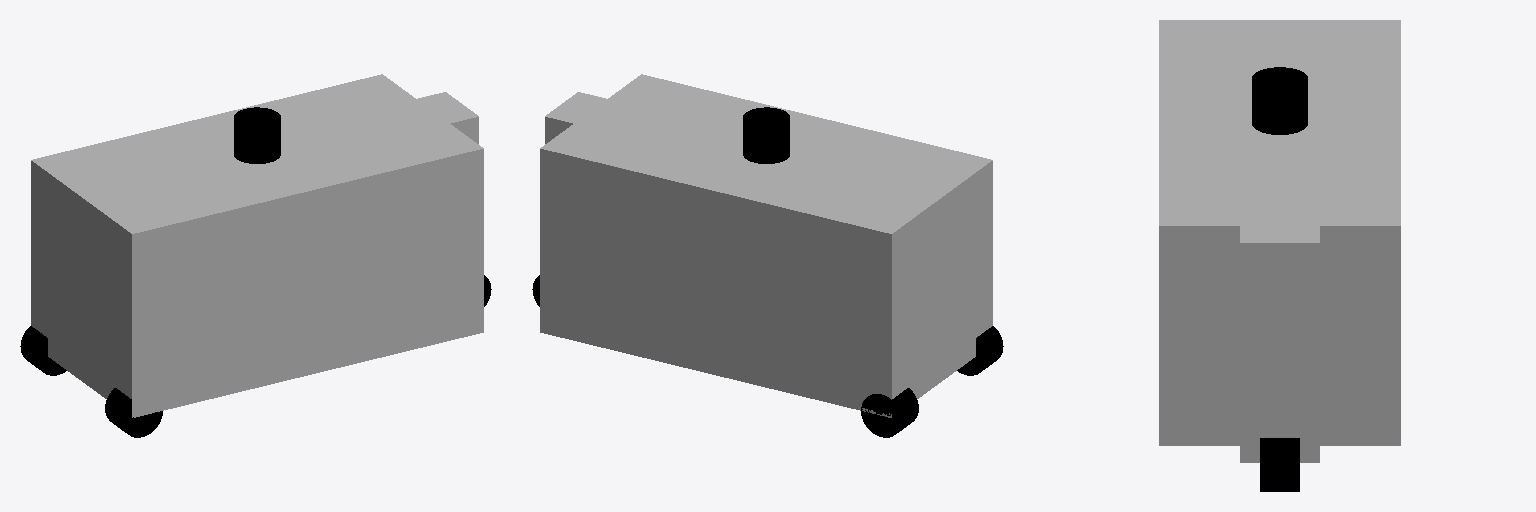
The robot description file, URDF, robot "tortoisebot-t4":
<?xml version="1.0"?>
<robot name="tortoisebot-t4">

<material name="black">
        <color rgba="0 0 0 1"/>
      </material>
  <link name="base_link">
    <visual>
      <geometry>
        <box size="0.6 0.3 0.3"/>
      </geometry>
      <material name="silver">
        <color rgba="0.75 0.75 0.75 1"/>
      </material>
    </visual>
    <collision>
      <geometry>
        <box size="0.6 0.3 0.3"/>
      </geometry>
    </collision>
    <inertial>
      <mass value="1.0"/>
      <inertia ixx="0.015" iyy="0.0375" izz="0.0375" ixy="0" ixz="0" iyz="0"/>
    </inertial>
  </link>

  <link name="front_caster">
    <visual>
      <geometry>
        <box size="0.1 0.1 0.3"/>
      </geometry>
      <material name="silver"/>
    </visual>
    <collision>
      <geometry>
        <box size="0.1 0.1 0.3"/>
      </geometry>
    </collision>
    <inertial>
      <mass value="0.1"/>
      <inertia ixx="0.00083" iyy="0.00083" izz="0.000167" ixy="0" ixz="0" iyz="0"/>
    </inertial>
  </link>

  <joint name="front_caster_joint" type="continuous">
    <axis xyz="0 0 1"/>
    <parent link="base_link"/>
    <child link="front_caster"/>
    <origin rpy="0 0 0" xyz="0.3 0 0"/>
  </joint>

  

  <link name="front_wheel">
    <visual>
      <geometry>
        <cylinder length="0.05" radius="0.035"/>
      </geometry>
      <material name="black"/>
    </visual>
    <collision>
      <geometry>
        <cylinder length="0.05" radius="0.035"/>
      </geometry>
    </collision>
    <inertial>
      <mass value="0.1"/>
      <inertia ixx="5.1458e-5" iyy="5.1458e-5" izz="6.125e-5" ixy="0" ixz="0" iyz="0"/>
    </inertial>
  </link>

  <joint name="front_wheel_joint" type="continuous">
    <axis xyz="0 0 1"/>
    <parent link="front_caster"/>
    <child link="front_wheel"/>
    <origin rpy="-1.5708 0 0" xyz="0.05 0 -.15"/>
  </joint>

  <link name="right_wheel">
    <visual>
      <geometry>
        <cylinder length="0.05" radius="0.035"/>
      </geometry>
      <material name="black"/>
    </visual>
    <collision>
      <geometry>
        <cylinder length="0.05" radius="0.035"/>
      </geometry>
    </collision>
    <inertial>
      <mass value="0.1"/>
      <inertia ixx="5.1458e-5" iyy="5.1458e-5" izz="6.125e-5" ixy="0" ixz="0" iyz="0"/>
    </inertial>
  </link>

  <joint name="right_wheel_joint" type="continuous">
    <axis xyz="0 0 1"/>
    <parent link="base_link"/>
    <child link="right_wheel"/>
    <origin rpy="-1.5708 0 0" xyz="-0.2825 -0.125 -.15"/>
  </joint>

  <link name="left_wheel">
    <visual>
      <geometry>
        <cylinder length="0.05" radius="0.035"/>
      </geometry>
      <material name="black"/>
    </visual>
    <collision>
      <geometry>
        <cylinder length="0.05" radius="0.035"/>
      </geometry>
    </collision>
    <inertial>
      <mass value="0.1"/>
      <inertia ixx="5.1458e-5" iyy="5.1458e-5" izz="6.125e-5" ixy="0" ixz="0" iyz="0"/>
    </inertial>
  </link>
  

  <joint name="left_wheel_joint" type="continuous">
    <axis xyz="0 0 1"/>
    <parent link="base_link"/>
    <child link="left_wheel"/>
    <origin rpy="-1.5708 0 0" xyz="-0.2825 0.125 -.15"/>
  </joint>

  <!-- LIDAR Link -->
  <link name="lidar_link">
    <visual>
      <geometry>
        <cylinder length="0.06" radius="0.035"/>
      </geometry>
      <material name="black"/>
    </visual>
    <collision>
      <geometry>
        <cylinder length="0.06" radius="0.035"/>
      </geometry>
    </collision>
  </link>
  <!-- LIDAR Joint -->
  <joint name="lidar_joint" type="fixed">
    <axis xyz="0 0 0"/>
    <parent link="base_link"/>
    <child link="lidar_link"/>
    <origin rpy="0 0 0" xyz="0 0 0.180"/>
  </joint>

 <!-- Robot Footprint -->
  <link name="base_footprint"></link>

  <joint name="base_joint" type="fixed">
    <parent link="base_footprint"/>
    <child link="base_link"/>
    <origin xyz="0.0 0.0 0.00" rpy="0 0 0"/>
  </joint>


  <gazebo>
<plugin name="gz::sim::systems::DiffDrive" filename="gz-sim-diff-drive-system">
<left_joint>left_wheel_joint</left_joint>
<right_joint>right_wheel_joint</right_joint>
<max_linear_acceleration>10</max_linear_acceleration>
<max_angular_acceleration>10</max_angular_acceleration>
<wheel_separation>0.25</wheel_separation>
<wheel_radius>0.035</wheel_radius>
<odom_publish_frequency>30</odom_publish_frequency>
<topic>/cmd_vel</topic>
<tf_topic>/tf</tf_topic>
<publish_odom_tf>true</publish_odom_tf>
<odom_topic>/odom</odom_topic>
<frame_id>odom</frame_id>
<child_frame_id>base_footprint</child_frame_id>
<odom_publisher_frequency>30</odom_publisher_frequency>

</plugin>

<plugin filename="gz-sim-joint-state-publisher-system" name="gz::sim::systems::JointStatePublisher">
<topic>joint_states</topic>
<joint_name>left_wheel_joint</joint_name>
<joint_name>right_wheel_joint</joint_name>
<joint_name>front_caster_joint</joint_name>
<joint_name>front_wheel_joint</joint_name>
</plugin>


</gazebo>

<gazebo reference="lidar_link">
<sensor name='gpu_lidar' type='gpu_lidar'>
    <pose relative_to='lidar_link'>0 0 0 0 0 0</pose>
    <topic>scan</topic>
    <gz_frame_id>lidar_link</gz_frame_id>
    <update_rate>10</update_rate>
    <ray>
        <scan>
            <horizontal>
                <samples>720</samples>
                <resolution>1</resolution>
                <min_angle>-3.14</min_angle>
                <max_angle>3.14</max_angle>
            </horizontal>
            <vertical>
                <samples>1</samples>
                <resolution>0.01</resolution>
                <min_angle>0</min_angle>
                <max_angle>0</max_angle>
            </vertical>
        </scan>
        <range>
            <min>0.08</min>
            <max>10.0</max>
            <resolution>0.01</resolution>
        </range>
         <noise>
                    <type>gaussian</type>
                    <mean>0.0</mean>
                    <stddev>0.02</stddev>
                </noise>
    </ray>
    <always_on>1</always_on>
    <visualize>true</visualize>

    <plugin name='gz::sim::systems::Sensors' filename='gz-sim-sensors-system'>
      <render_engine>ogre2</render_engine>
    </plugin>
</sensor></gazebo>
</robot>

--- Facts derived from the render (not from the file) ---
The picture shows the robot from 3 angles, left to right: view 1: azimuth 30°, elevation 25°; view 2: azimuth 150°, elevation 25°; view 3: azimuth 270°, elevation 25°; orthographic projection.
Robot: tortoisebot-t4 — 7 links, 6 joints (4 continuous, 2 fixed); root link base_footprint; default pose: all joints at 0.
Links seen in each view (by area): view 1: base_link, lidar_link, front_caster, right_wheel, left_wheel; view 2: base_link, lidar_link, left_wheel, front_caster, right_wheel; view 3: base_link, front_caster, lidar_link, front_wheel.
Boxes of the visible links, left/top/right/bottom form: base_link: left=31, top=74, right=483, bottom=417; lidar_link: left=234, top=107, right=280, bottom=163; front_caster: left=408, top=92, right=478, bottom=143; right_wheel: left=105, top=388, right=162, bottom=437; left_wheel: left=20, top=326, right=66, bottom=375; base_link: left=540, top=74, right=992, bottom=417; lidar_link: left=743, top=107, right=789, bottom=163; left_wheel: left=861, top=388, right=918, bottom=437; front_caster: left=545, top=92, right=635, bottom=143; right_wheel: left=957, top=326, right=1003, bottom=375; base_link: left=1159, top=20, right=1400, bottom=445; front_caster: left=1240, top=209, right=1319, bottom=462; lidar_link: left=1252, top=67, right=1307, bottom=134; front_wheel: left=1260, top=438, right=1299, bottom=491.
Size in the robot's own frame: 0.7025 by 0.3 by 0.395 metres.
Geometry: primitives only (box / cylinder / sphere), no mesh files.